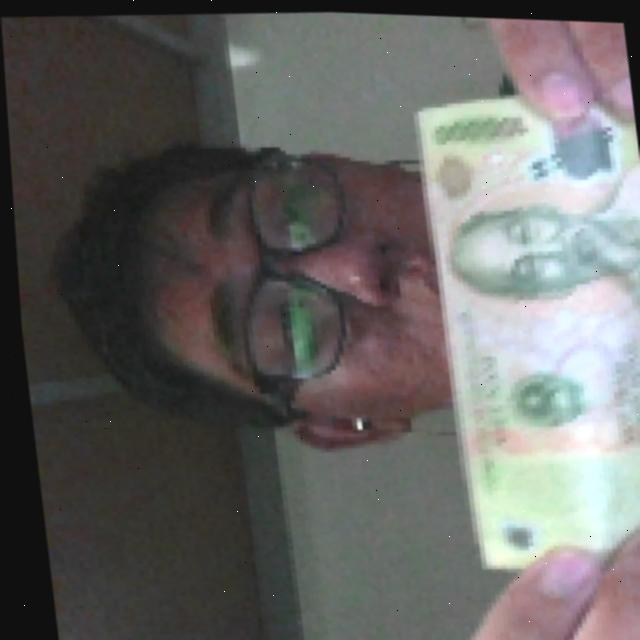100 000 VND: (403, 74, 640, 579)
